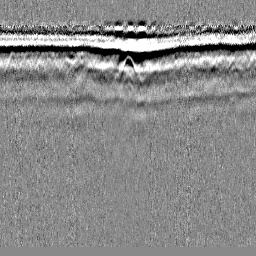cavity: (118, 53, 138, 85)
